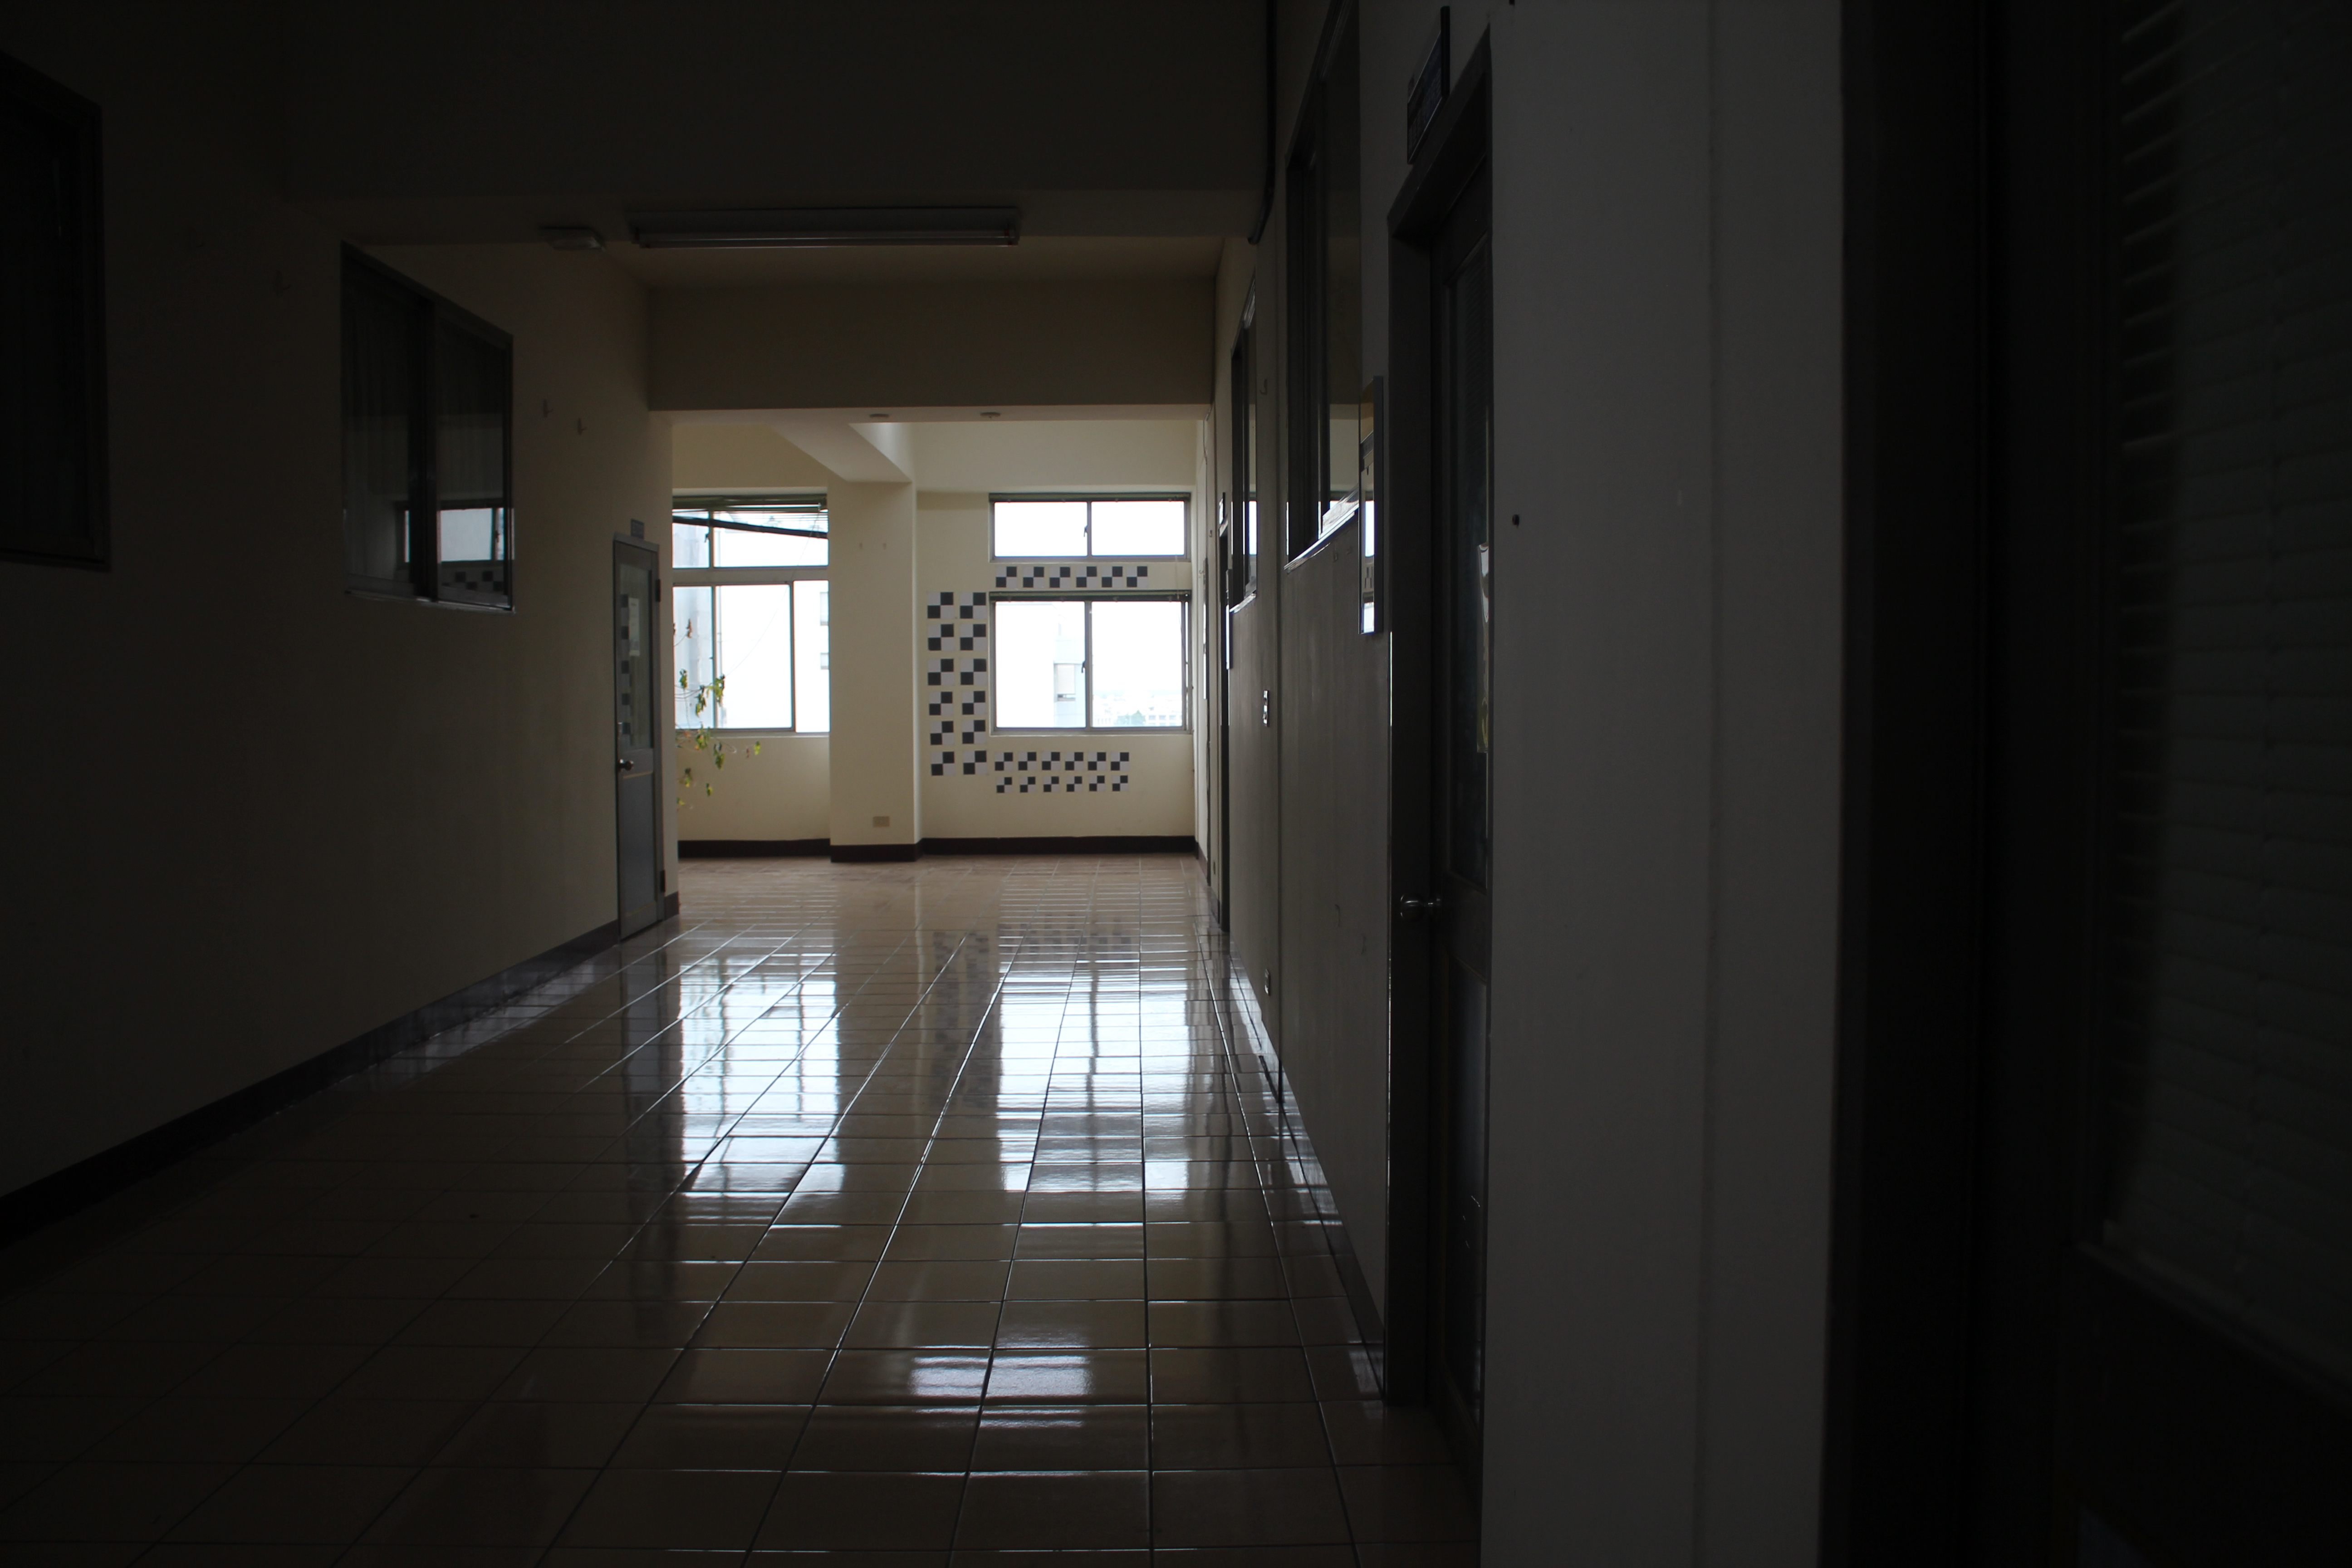方標: (927, 621, 955, 651), (959, 656, 987, 686), (927, 590, 955, 618), (959, 591, 987, 620), (927, 656, 954, 686), (959, 621, 985, 651), (929, 719, 955, 747), (927, 689, 954, 716), (929, 751, 955, 775), (961, 691, 987, 716), (961, 719, 987, 744), (963, 749, 987, 775), (1022, 565, 1045, 588), (1074, 565, 1097, 588), (1101, 565, 1123, 588), (1127, 563, 1148, 588), (996, 565, 1017, 588), (1050, 565, 1071, 588), (1041, 749, 1062, 772), (1064, 749, 1085, 772), (1087, 749, 1108, 772), (992, 751, 1013, 772), (1109, 751, 1130, 772), (1019, 749, 1038, 772), (1019, 775, 1036, 794), (996, 775, 1013, 793), (1043, 775, 1060, 793), (1066, 775, 1083, 793), (1089, 775, 1106, 793), (1111, 775, 1130, 791)
